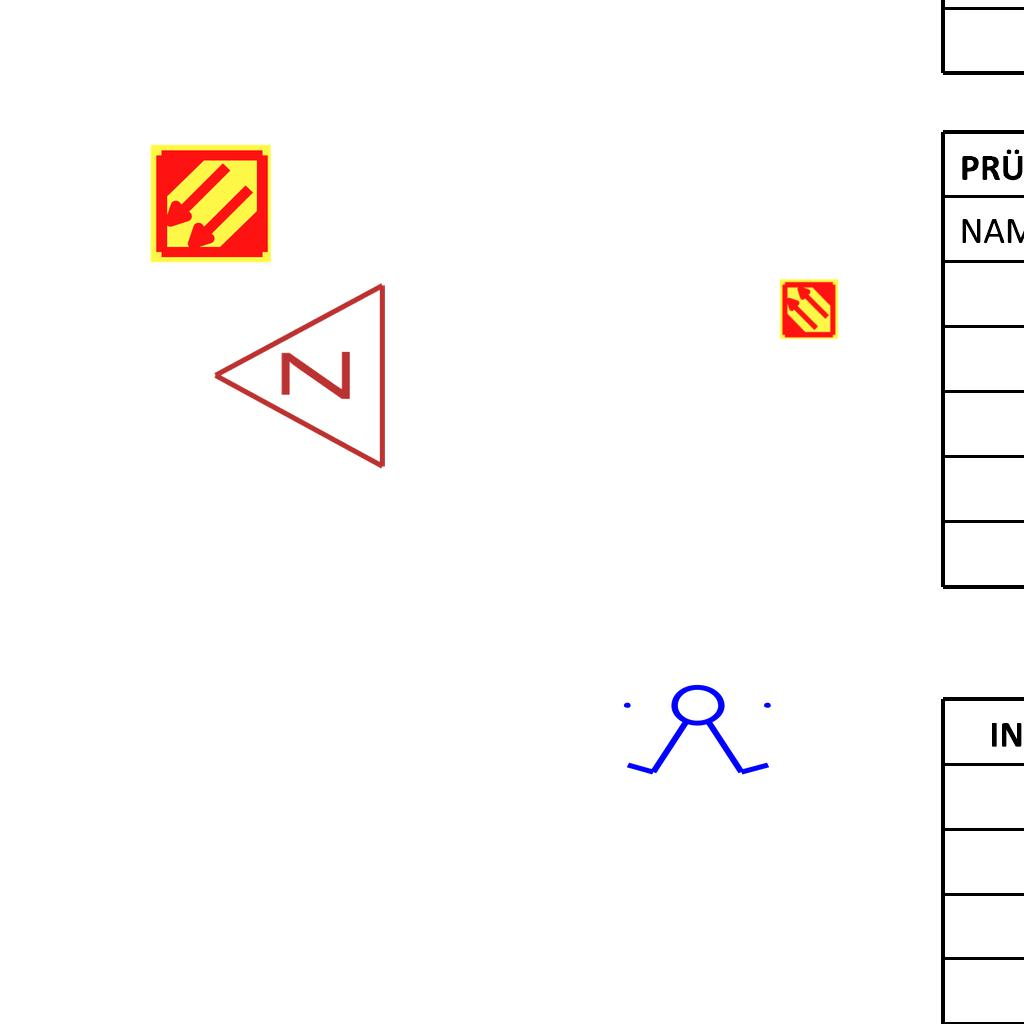ASR_Ansaugrauchmelder: (148, 141, 273, 266), (778, 278, 840, 340)
Serienschalter: (615, 683, 783, 779)
Zimmersignalleuchte: (200, 280, 400, 476)
